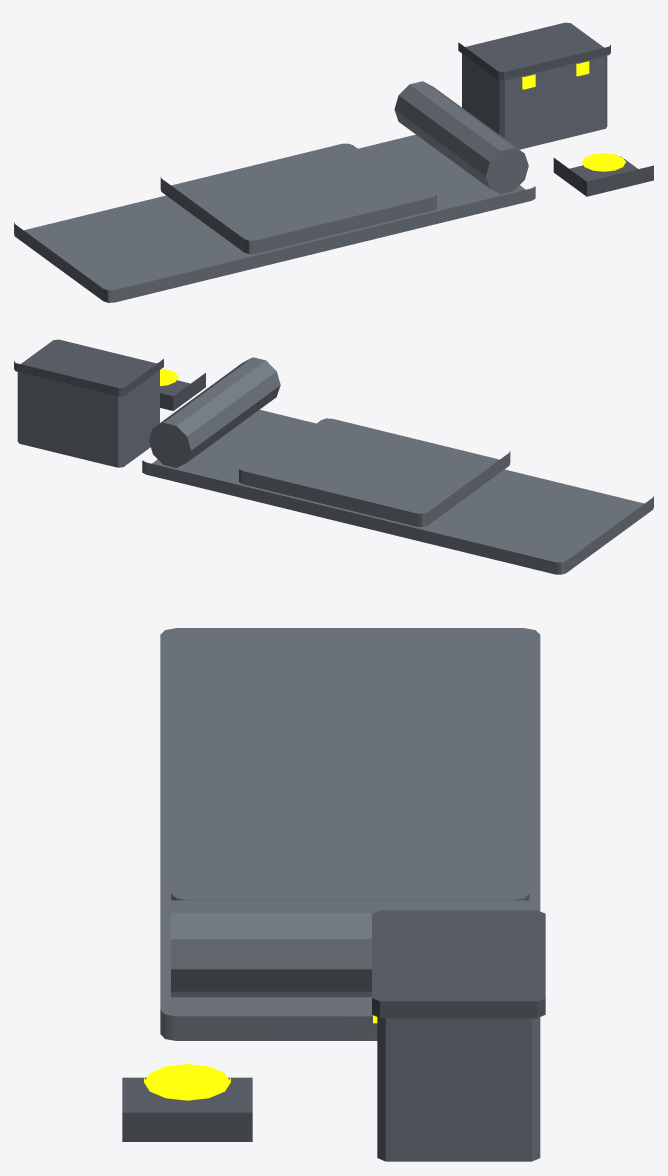
File: ext_shelter_sleeper_set_04.glb
3 views of the same model, one above another, from view 1: azimuth 30°, elevation 25°; view 2: azimuth 150°, elevation 25°; view 3: azimuth 270°, elevation 25° (orthographic). The views are drawn at different scales.
Parts seen in each view (by area): view 1: Bedroll_Mat, Blanket_Fold, Crate, Bedroll_Roll, Crate_Lid, Hot_Plate, Hot_Coil; view 2: Bedroll_Mat, Blanket_Fold, Crate, Bedroll_Roll, Crate_Lid, Hot_Plate; view 3: Bedroll_Mat, Blanket_Fold, Crate, Bedroll_Roll, Crate_Lid, Hot_Plate, Hot_Coil.
Part boxes in pixels (x1=…): Bedroll_Mat: x1=14, y1=134, x2=535, y2=302; Blanket_Fold: x1=160, y1=143, x2=436, y2=254; Crate: x1=462, y1=53, x2=607, y2=149; Bedroll_Roll: x1=394, y1=81, x2=528, y2=193; Crate_Lid: x1=458, y1=22, x2=610, y2=80; Hot_Plate: x1=553, y1=156, x2=653, y2=196; Hot_Coil: x1=581, y1=153, x2=625, y2=171; Bedroll_Mat: x1=142, y1=409, x2=653, y2=574; Blanket_Fold: x1=239, y1=418, x2=510, y2=526; Crate: x1=17, y1=370, x2=159, y2=467; Bedroll_Roll: x1=149, y1=357, x2=280, y2=467; Crate_Lid: x1=14, y1=339, x2=163, y2=396; Hot_Plate: x1=160, y1=373, x2=205, y2=410; Bedroll_Mat: x1=160, y1=628, x2=540, y2=1040; Blanket_Fold: x1=171, y1=743, x2=529, y2=900; Crate: x1=377, y1=1017, x2=540, y2=1161; Bedroll_Roll: x1=171, y1=900, x2=529, y2=997; Crate_Lid: x1=372, y1=910, x2=545, y2=1018; Hot_Plate: x1=122, y1=1077, x2=252, y2=1141; Hot_Coil: x1=144, y1=1064, x2=230, y2=1100.
Bounding box in the file's own units: 2.34 × 0.33 × 0.78.
